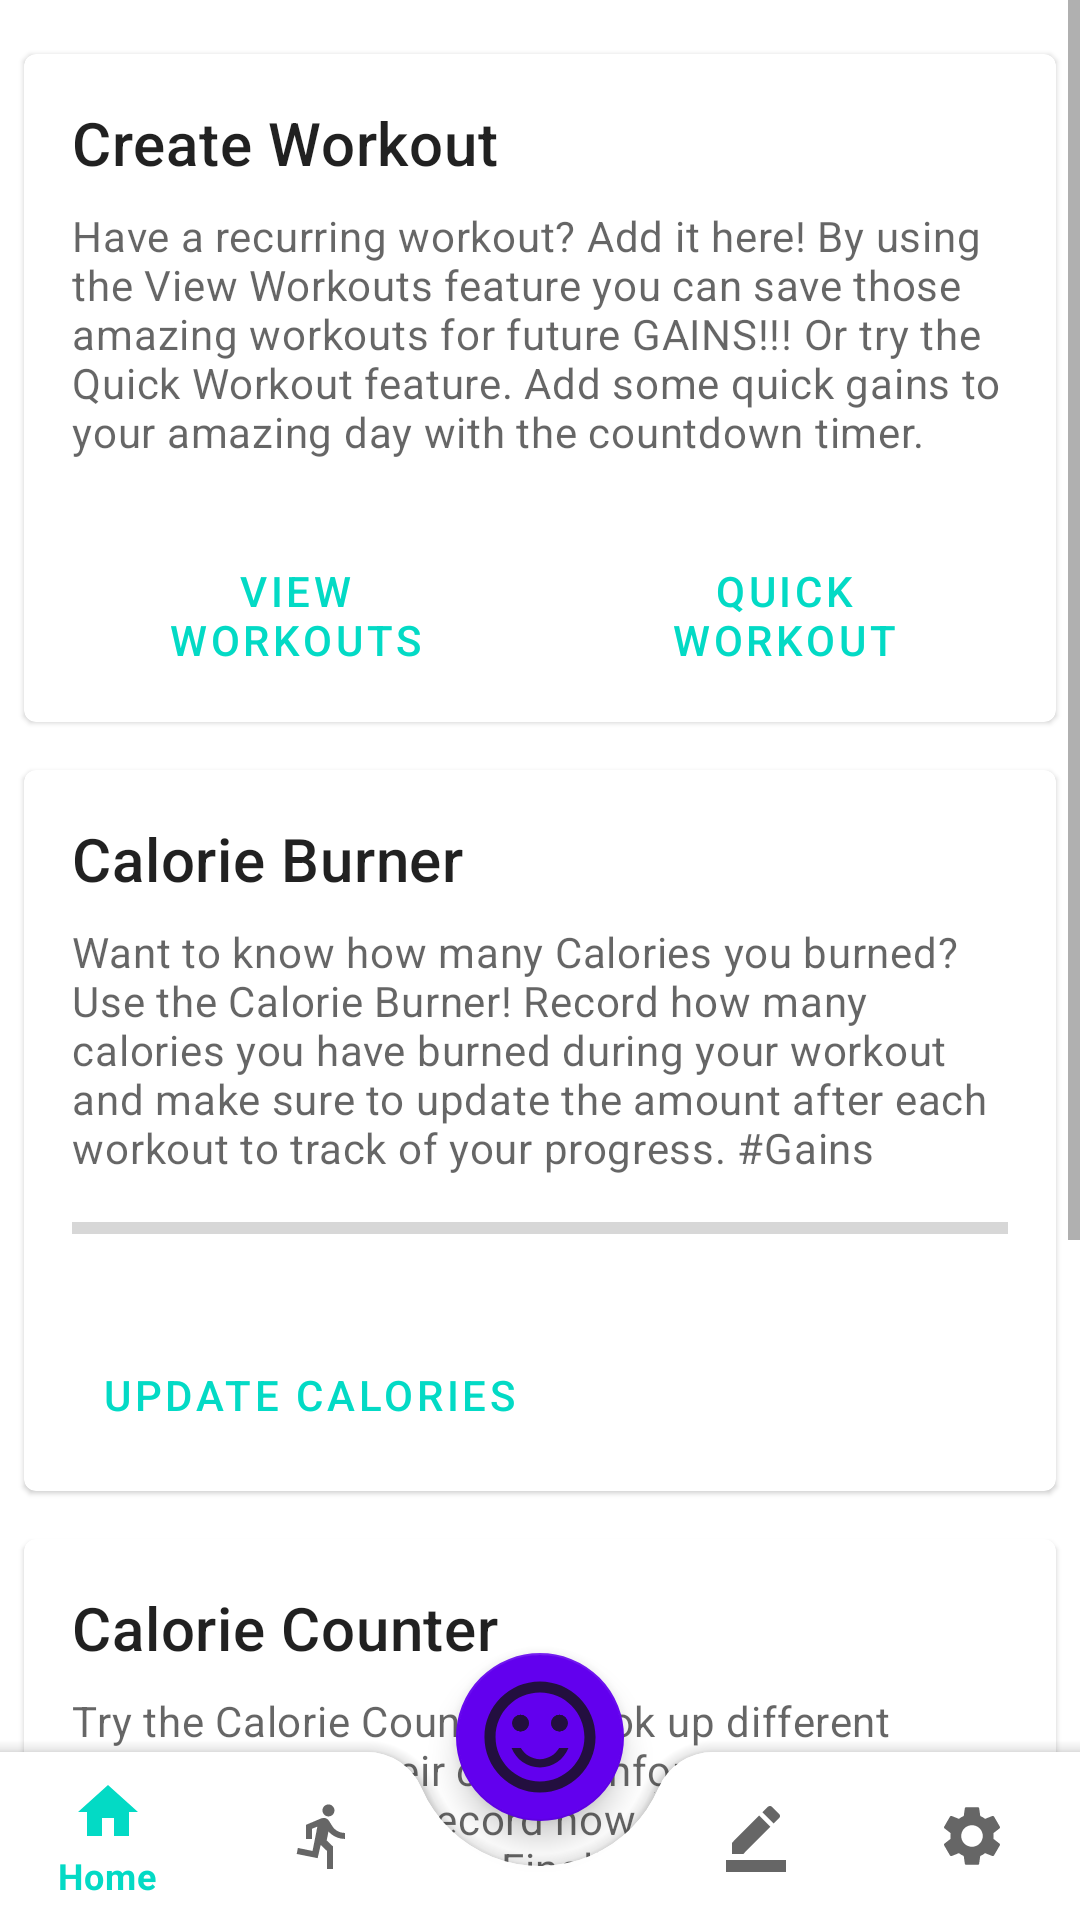

Where to tap for icons on this 1080px x 1920px app screen, as [x,y]:
smiley: [540,1752]
